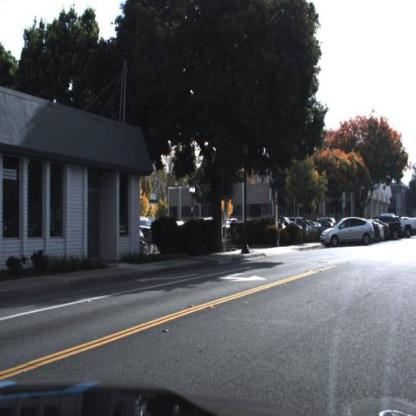car: (321, 217, 376, 248), (380, 213, 403, 240), (399, 216, 416, 242)
